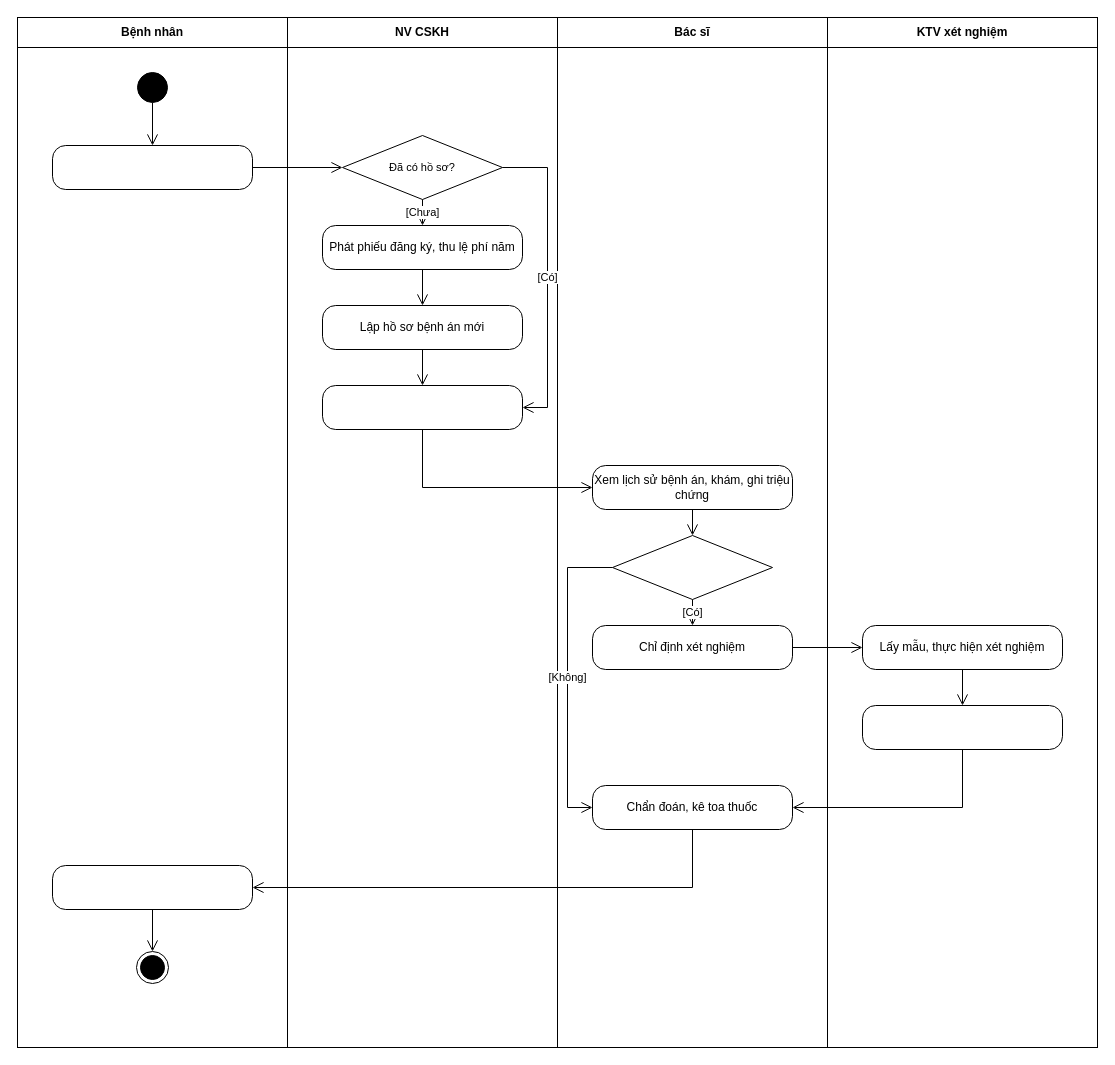
This 1115x1065 diagram has some shape labels left out. Each missing label, with the centre of its shape:
Cần xét nghiệm?: [692,567]
Nhận toa thuốc: [152,887]
Nhập kết quả xét nghiệm: [962,727]
Tra cứu hồ sơ, lập phiếu khám, chọn khoa / bác sĩ: [422,407]
Đến quầy, yêu cầu khám bệnh: [152,167]
